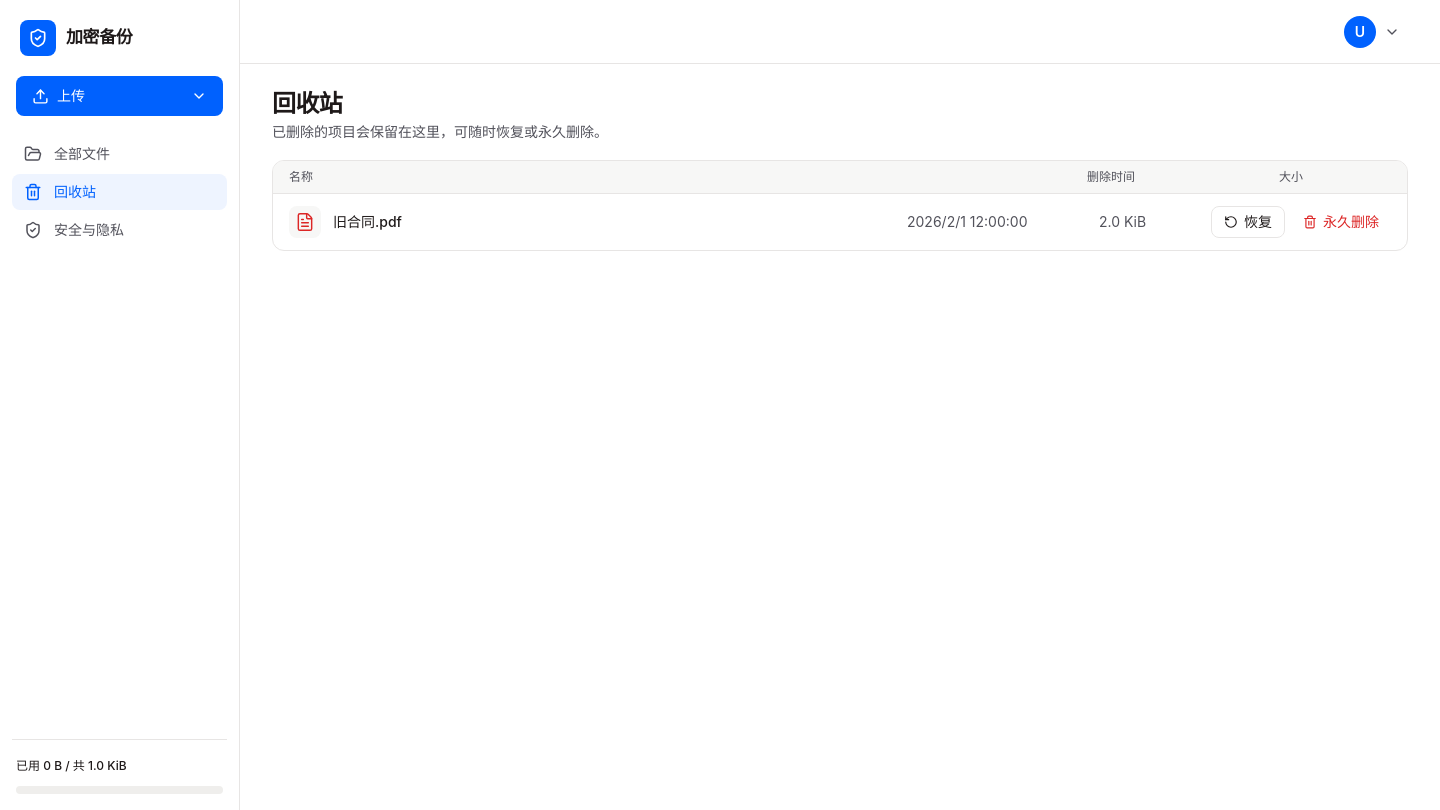
Test case: 回收站视图 › 恢复后从回收站移除并提示
Expected: the row with test id "trash-item" is shown, [289,206,1391,238]
Click the button with aria-label "恢复 旧合同.pdf" at [1248, 222], box [1211,206,1285,238]
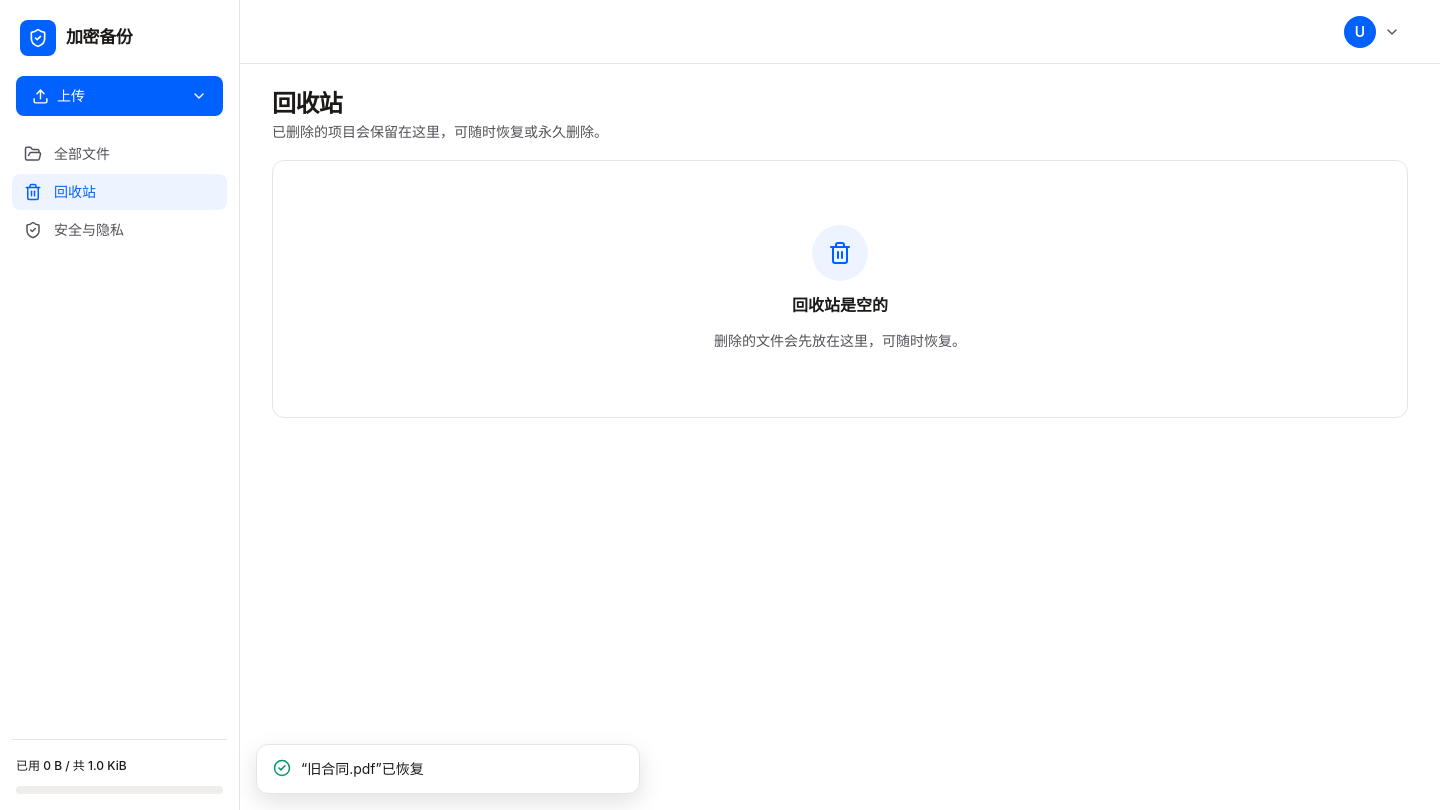
Now the row with test id "trash-item" is gone
Now the message shows "已恢复", box [301,760,424,777]
